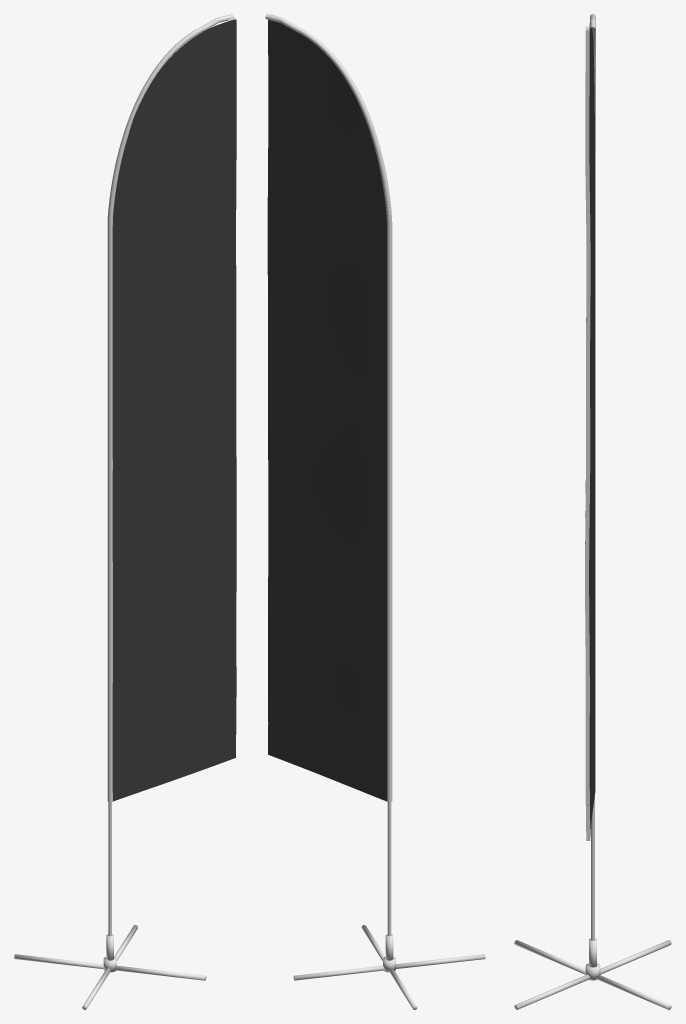
File: flag14-double-x.glb
3 renders of one model, left to right at view 1: azimuth 30°, elevation 25°; view 2: azimuth 150°, elevation 25°; view 3: azimuth 270°, elevation 25°, orthographic. The views are drawn at different scales.
Parts seen in each view (by area): view 1: side_front, pocket, pole; view 2: side_back, pocket, pole, base_arm0; view 3: side_back, edge, pocket, pole, base_arm0, base_arm3, base_arm1, base_arm2.
Boxes of the visible parts, box(x1,y1,x2,y2) form: side_front: box(112, 19, 236, 801); pocket: box(107, 14, 234, 801); pole: box(108, 802, 111, 936); side_back: box(267, 19, 386, 801); pocket: box(265, 14, 392, 801); pole: box(387, 802, 391, 936); base_arm0: box(293, 965, 384, 980); side_back: box(589, 23, 594, 836); edge: box(585, 26, 590, 840); pocket: box(590, 14, 595, 792); pole: box(591, 795, 594, 940); base_arm0: box(595, 974, 671, 1009); base_arm3: box(514, 974, 590, 1009); base_arm1: box(600, 940, 671, 974); base_arm2: box(514, 940, 585, 974).
Size of the model in its own units: 0.9081 by 4.34 by 0.6088.
Materials: 1 (1 with a texture image).
